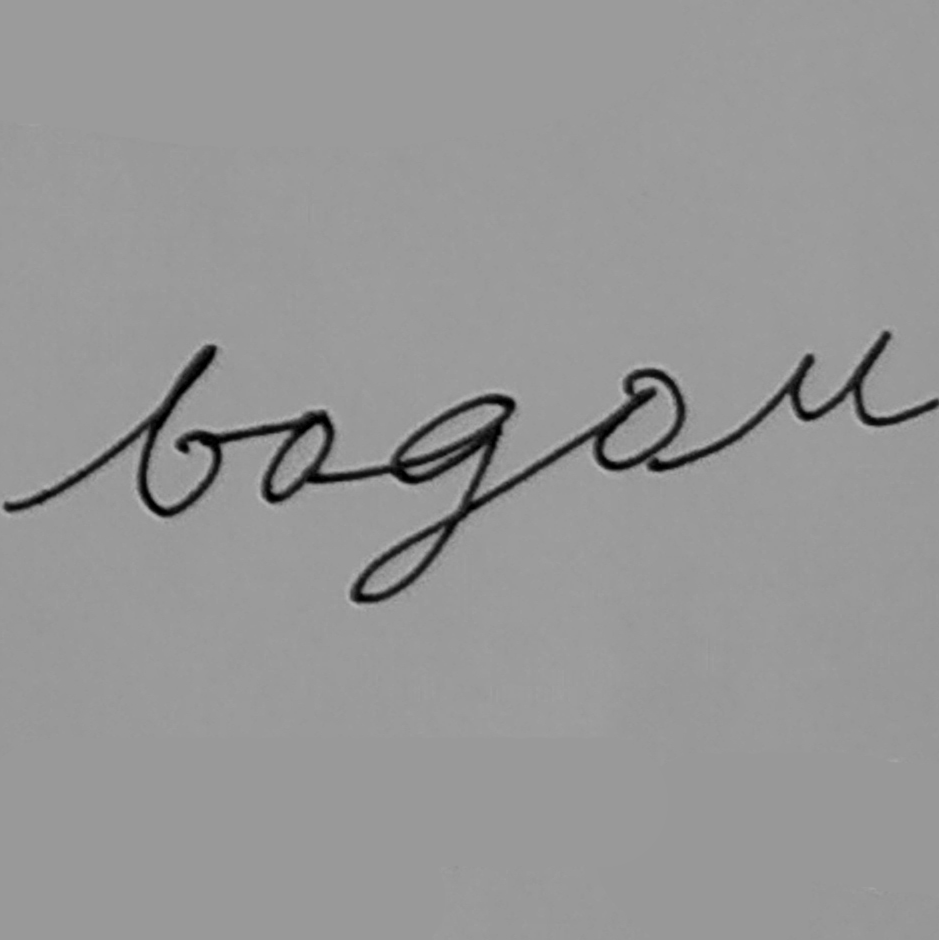b: (132, 339, 227, 520)
g: (347, 392, 521, 605)
o: (587, 363, 688, 478), (254, 405, 339, 506)
r: (747, 328, 903, 441)
